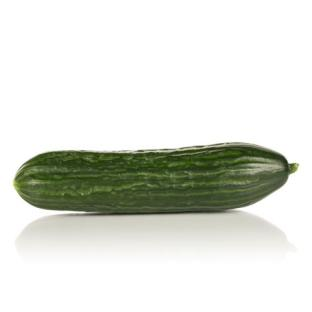Cucumber: (14, 144, 297, 212)
